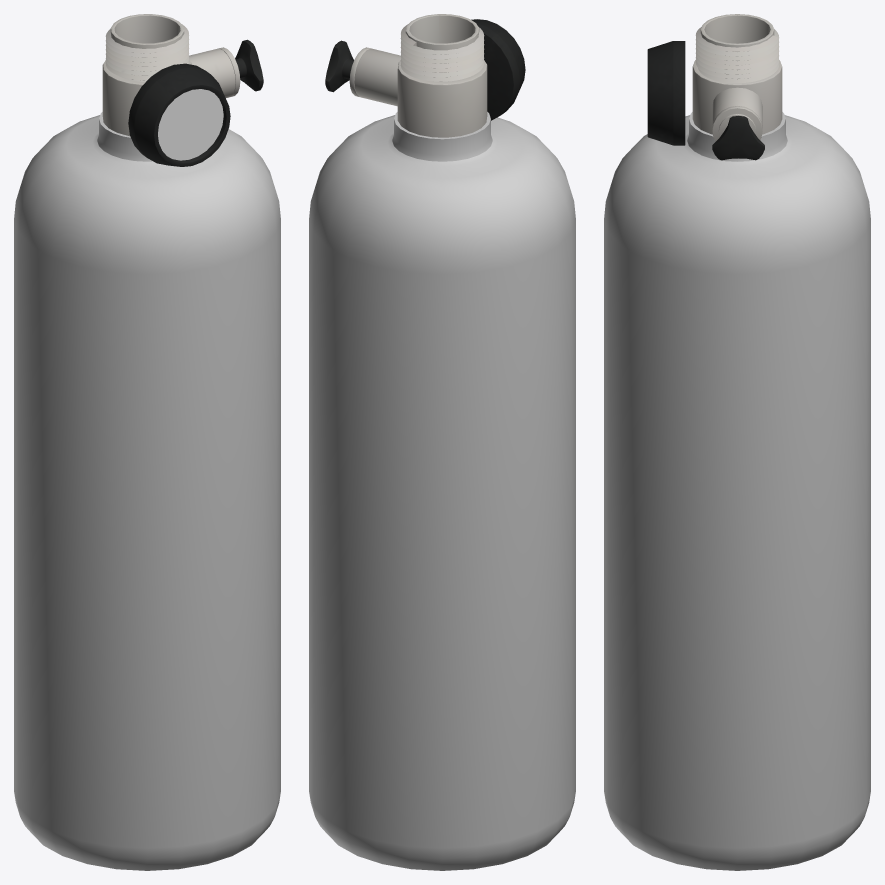
Rendered from OxygenTank.fbx.
3 views of the same model, side by side, from view 1: azimuth 30°, elevation 25°; view 2: azimuth 150°, elevation 25°; view 3: azimuth 270°, elevation 25° (orthographic).
Parts seen in each view (by area): view 1: KB3D_ECE_BldgIntPatientRoom_A_OxygenTank; view 2: KB3D_ECE_BldgIntPatientRoom_A_OxygenTank; view 3: KB3D_ECE_BldgIntPatientRoom_A_OxygenTank.
Boxes of the visible parts, left/top/right/bottom form: KB3D_ECE_BldgIntPatientRoom_A_OxygenTank: left=14, top=14, right=280, bottom=870; KB3D_ECE_BldgIntPatientRoom_A_OxygenTank: left=309, top=14, right=575, bottom=870; KB3D_ECE_BldgIntPatientRoom_A_OxygenTank: left=604, top=14, right=870, bottom=870.
Bounding box in the file's own units: 27.11 × 88.7 × 27.11.
